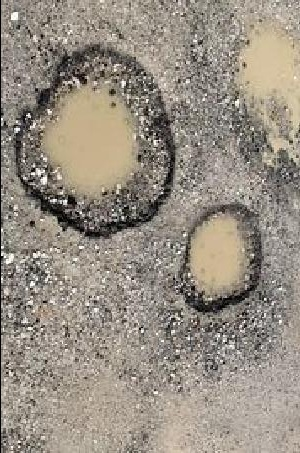pothole: (10, 39, 179, 244), (226, 14, 299, 178), (180, 200, 265, 316)
